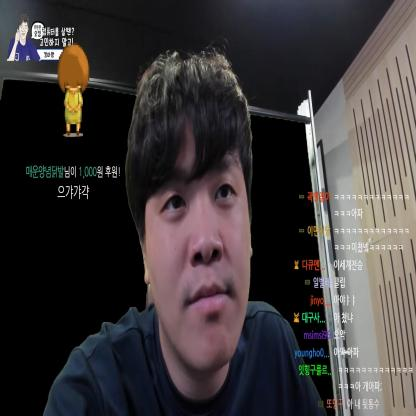donation: (26, 43, 121, 200)
streamer: (44, 48, 328, 416)
